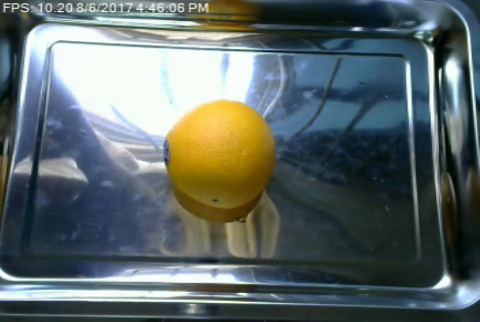Orange: (164, 100, 274, 209)
